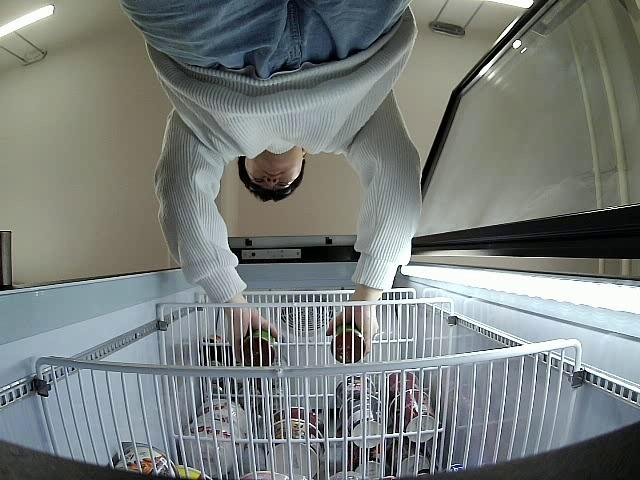00_hand: (227, 310, 286, 361), (324, 307, 380, 360)
19_17cha: (329, 322, 367, 365), (241, 329, 277, 369)
